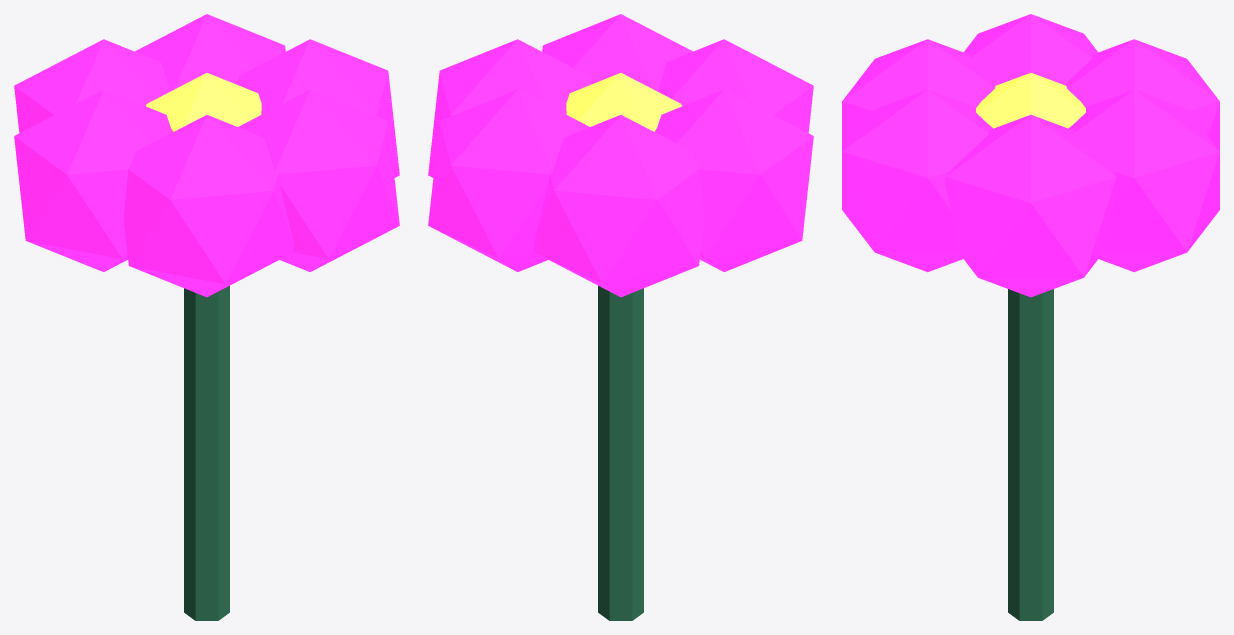
Rendered from PROP_flower_20261005.glb.
3 renders of one model, left to right at view 1: azimuth 30°, elevation 25°; view 2: azimuth 150°, elevation 25°; view 3: azimuth 270°, elevation 25°, orthographic.
Visible parts, largest first — view 1: PROP_FlowerPetal.002, PROP_FlowerPetal.001, PROP_FlowerPetal.003, PROP_FlowerStem, PROP_FlowerPetal, PROP_FlowerPetal.004, PROP_FlowerPetal.005, PROP_FlowerHeart; view 2: PROP_FlowerPetal.004, PROP_FlowerPetal.005, PROP_FlowerPetal.003, PROP_FlowerStem, PROP_FlowerPetal, PROP_FlowerPetal.002, PROP_FlowerPetal.001, PROP_FlowerHeart; view 3: PROP_FlowerPetal, PROP_FlowerPetal.001, PROP_FlowerPetal.005, PROP_FlowerStem, PROP_FlowerPetal.002, PROP_FlowerPetal.004, PROP_FlowerPetal.003, PROP_FlowerHeart.
Part boxes in pixels (<box>): PROP_FlowerPetal.002: <box>123,115,293,297</box>; PROP_FlowerPetal.001: <box>238,89,399,271</box>; PROP_FlowerPetal.003: <box>14,89,172,271</box>; PROP_FlowerStem: <box>184,285,229,620</box>; PROP_FlowerPetal: <box>236,39,399,177</box>; PROP_FlowerPetal.004: <box>14,39,170,132</box>; PROP_FlowerPetal.005: <box>135,14,285,91</box>; PROP_FlowerHeart: <box>146,73,261,131</box>; PROP_FlowerPetal.004: <box>534,115,704,297</box>; PROP_FlowerPetal.005: <box>428,89,589,271</box>; PROP_FlowerPetal.003: <box>655,89,813,271</box>; PROP_FlowerStem: <box>598,285,643,620</box>; PROP_FlowerPetal: <box>428,39,591,177</box>; PROP_FlowerPetal.002: <box>657,39,813,132</box>; PROP_FlowerPetal.001: <box>542,14,692,91</box>; PROP_FlowerHeart: <box>566,73,681,131</box>; PROP_FlowerPetal: <box>945,115,1116,297</box>; PROP_FlowerPetal.001: <box>842,89,992,272</box>; PROP_FlowerPetal.005: <box>1069,89,1219,272</box>; PROP_FlowerStem: <box>1008,289,1053,620</box>; PROP_FlowerPetal.002: <box>842,39,997,151</box>; PROP_FlowerPetal.004: <box>1064,39,1219,151</box>; PROP_FlowerPetal.003: <box>963,14,1098,84</box>; PROP_FlowerHeart: <box>976,73,1085,128</box>.
Size of the model in its own units: 0.4568 by 0.66 by 0.4123.
